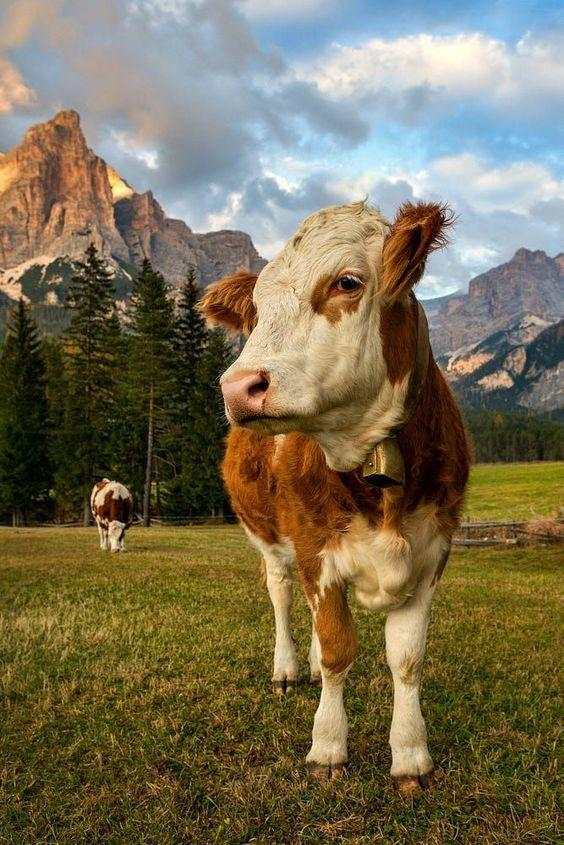cow: (63, 95, 535, 718)
